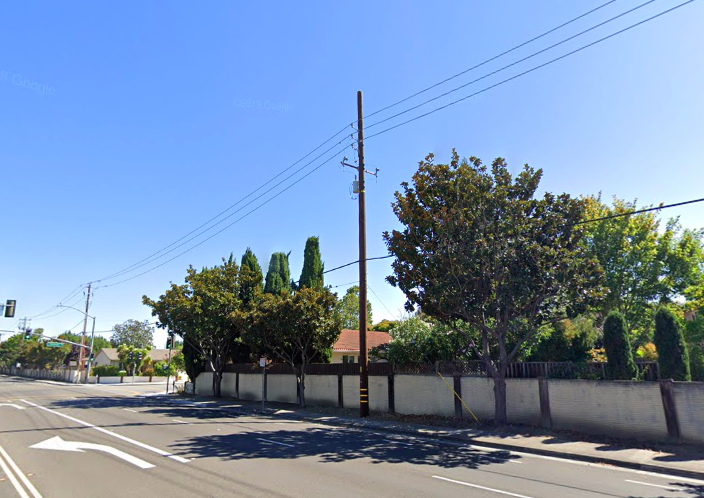tree: (381, 146, 608, 425), (141, 257, 264, 397), (226, 285, 343, 407)
utility_pole: (333, 83, 384, 184)
